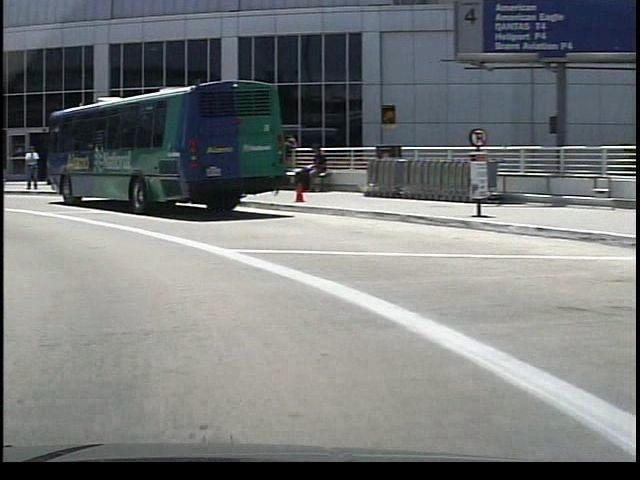person: (293, 143, 323, 197), (21, 142, 38, 194)
